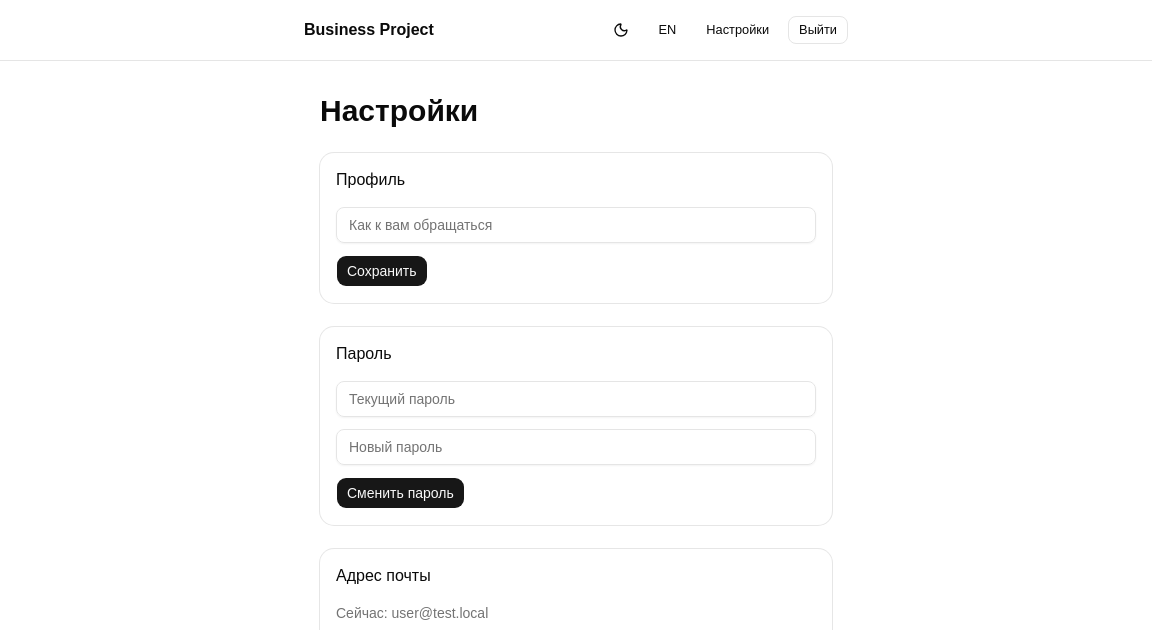
Test: смена пароля просит текущий и показывает ошибку у своего поля
Type "не тот" into the password field with placeholder "Текущий пароль".
click(576, 399); type("не тот")  # box [336,381,816,417]
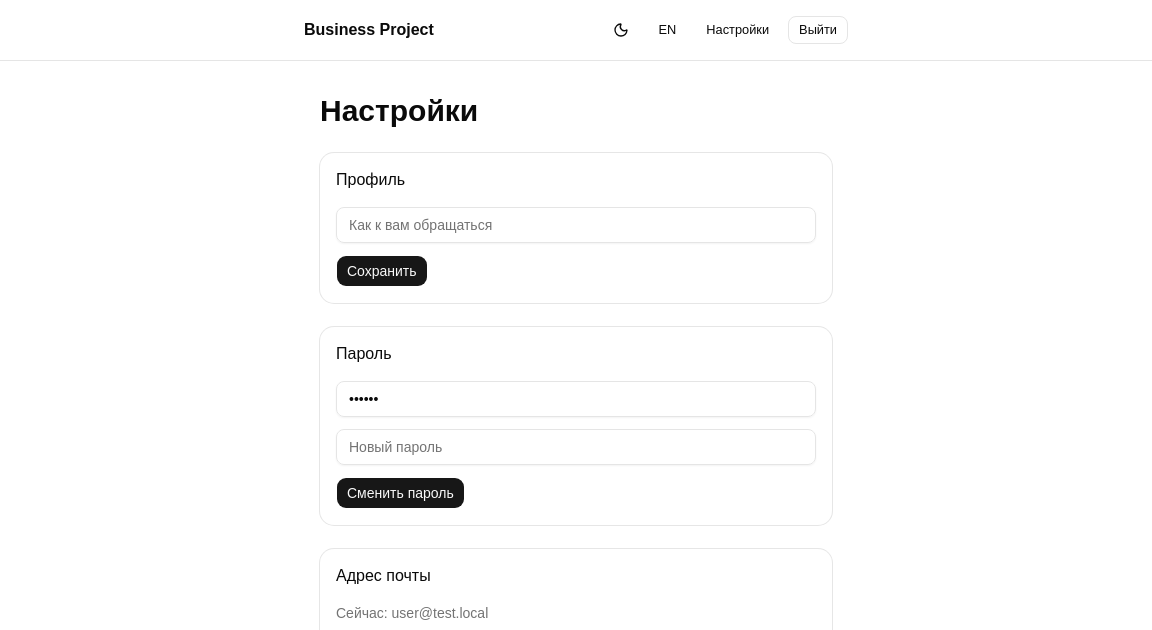
Type "new-horse-9" into the password field with placeholder "Новый пароль".
click(576, 447); type("new-horse-9")  # box [336,429,816,465]
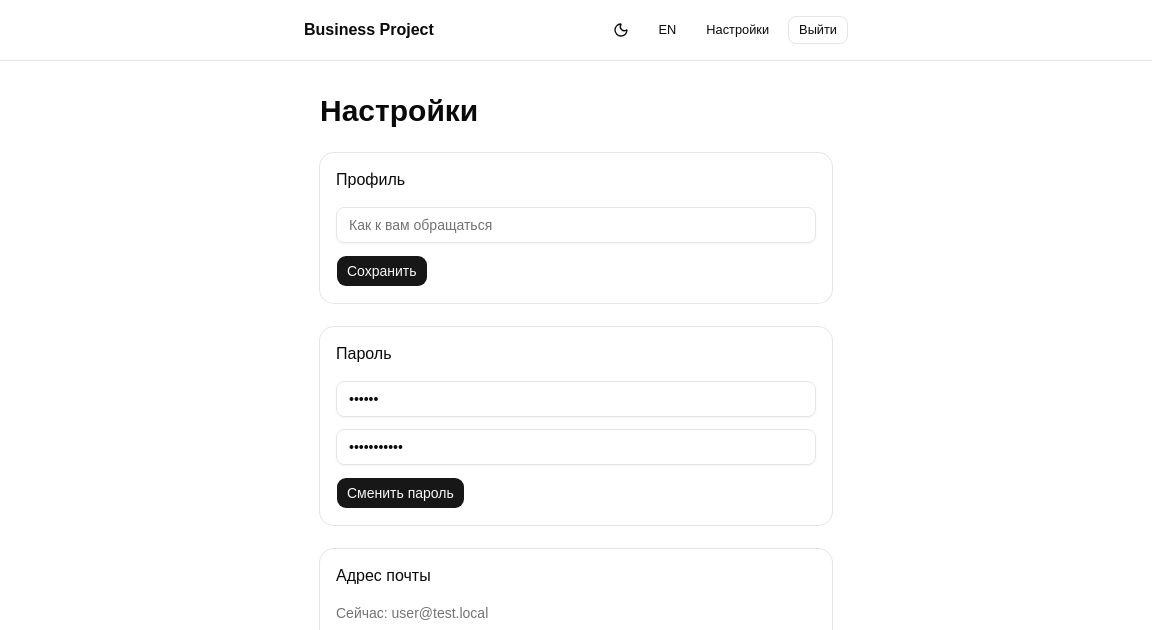
Click the button "Сменить пароль".
click(400, 493)  # box [336,477,465,509]
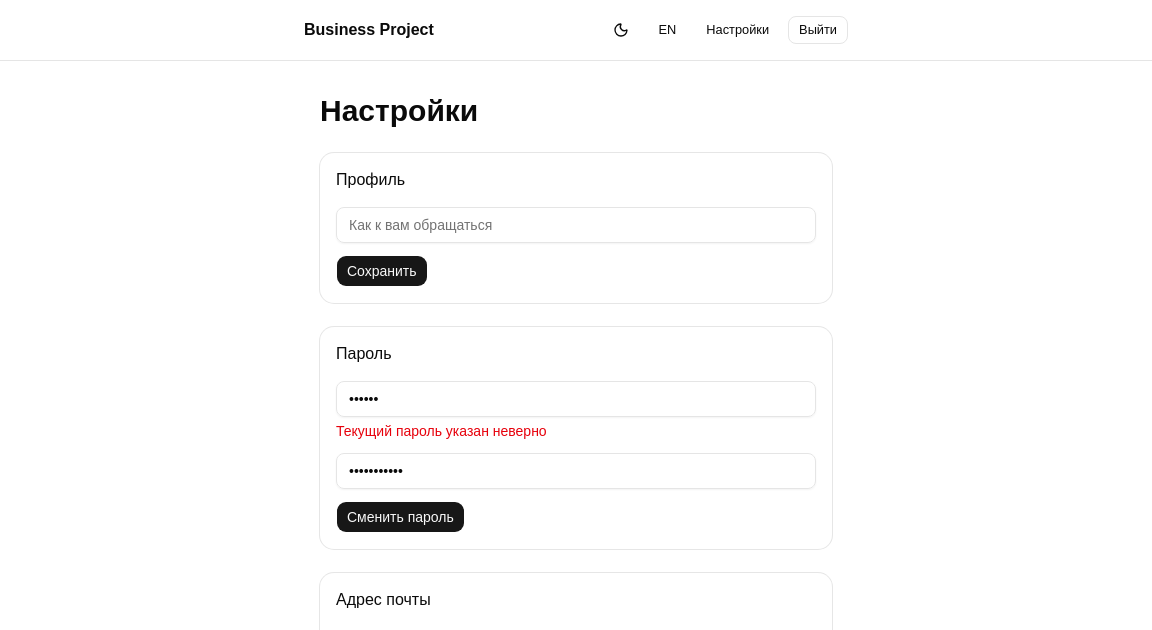
expect the message reads "Текущий пароль указан неверно": met, box [336,423,547,439]
